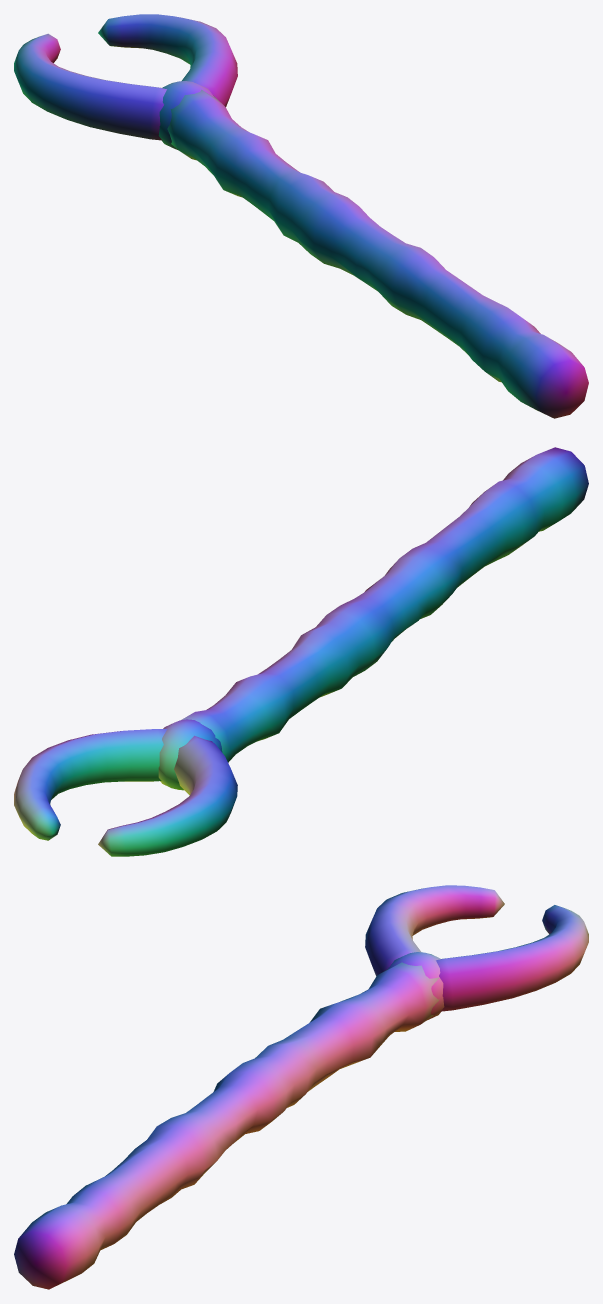
File: SM_Hero_Mage_Staff.fbx
3 views of the same model, one above another, from view 1: azimuth 30°, elevation 25°; view 2: azimuth 150°, elevation 25°; view 3: azimuth 330°, elevation 25° (orthographic).
Parts seen in each view (by area): view 1: SM_Hero_Mage_Staff; view 2: SM_Hero_Mage_Staff; view 3: SM_Hero_Mage_Staff.
Boxes of the visible parts, x1=… form: SM_Hero_Mage_Staff: x1=14, y1=14, x2=588, y2=418; SM_Hero_Mage_Staff: x1=14, y1=447, x2=588, y2=856; SM_Hero_Mage_Staff: x1=14, y1=885, x2=588, y2=1289.
Size of the model in its own units: 0.321 by 0.1043 by 1.41.
